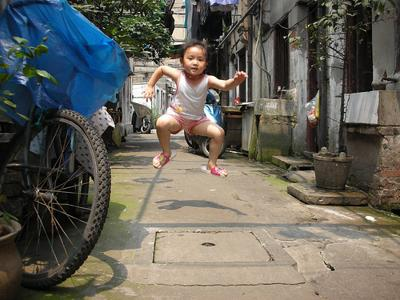person: (144, 40, 249, 180)
